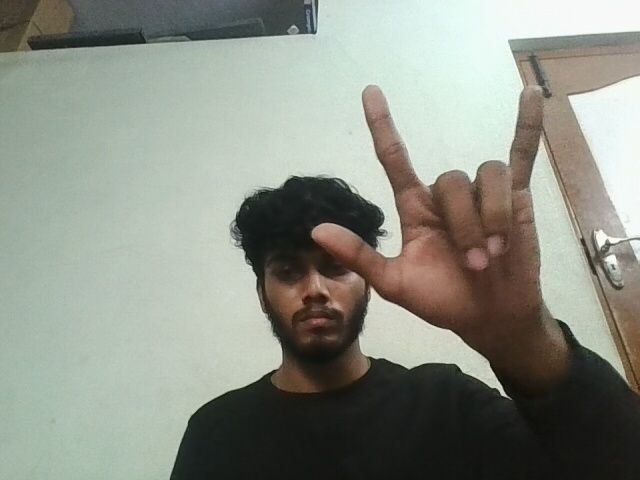iloveyou: (299, 62, 598, 345)
